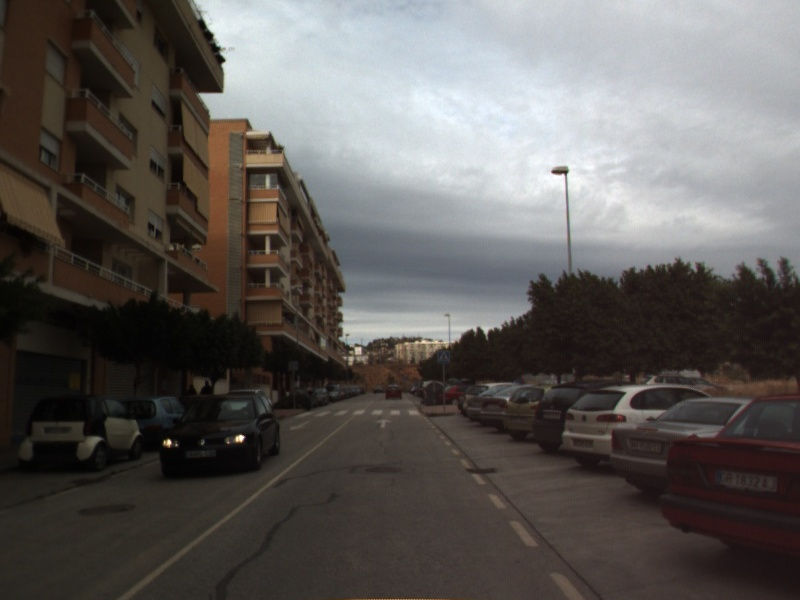STRAIGHT: (374, 417, 394, 430)
